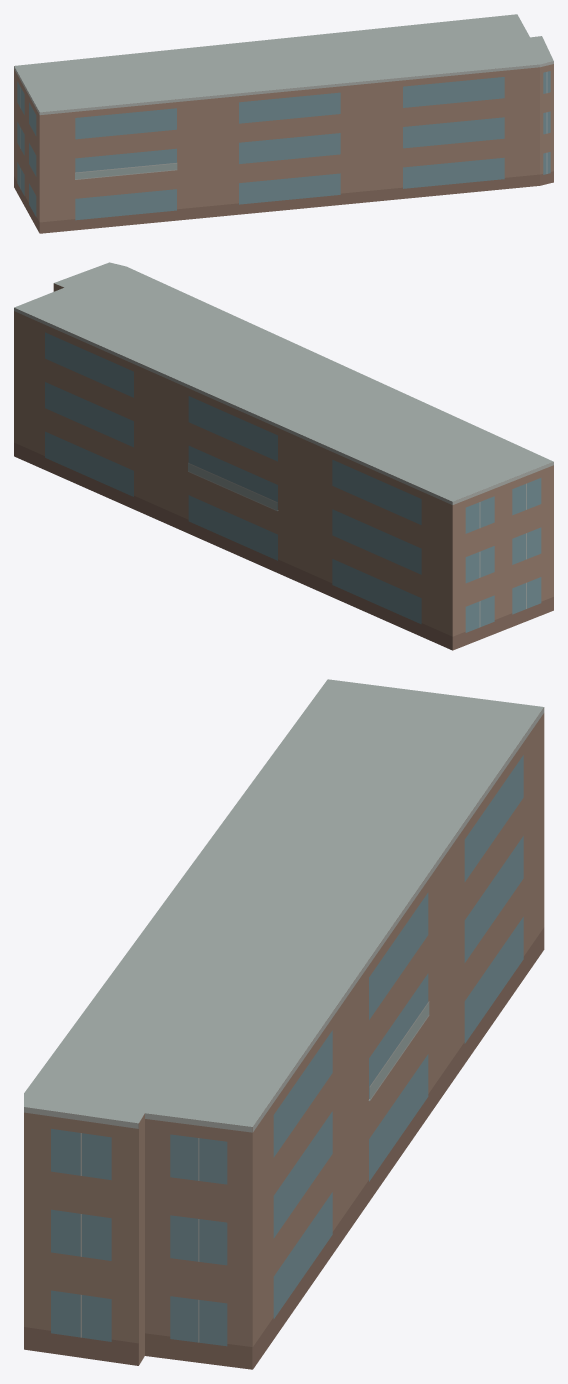
Rendered from survey-upis-32876199.glb.
3 views of the same model, one above another, from view 1: azimuth 30°, elevation 25°; view 2: azimuth 150°, elevation 25°; view 3: azimuth 270°, elevation 25° (orthographic). The views are drawn at different scales.
Visible parts, largest first — view 1: survey-upis-32876199.tmp; view 2: survey-upis-32876199.tmp; view 3: survey-upis-32876199.tmp.
Part boxes in pixels (<box>): survey-upis-32876199.tmp: <box>14,14,553,233</box>; survey-upis-32876199.tmp: <box>14,262,553,650</box>; survey-upis-32876199.tmp: <box>24,679,544,1369</box>.
Bounding box in the file's own units: 41.97 × 10.6 × 20.62.
